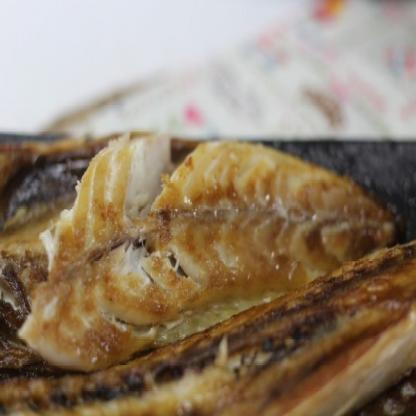Peixe: (0, 124, 416, 416)
